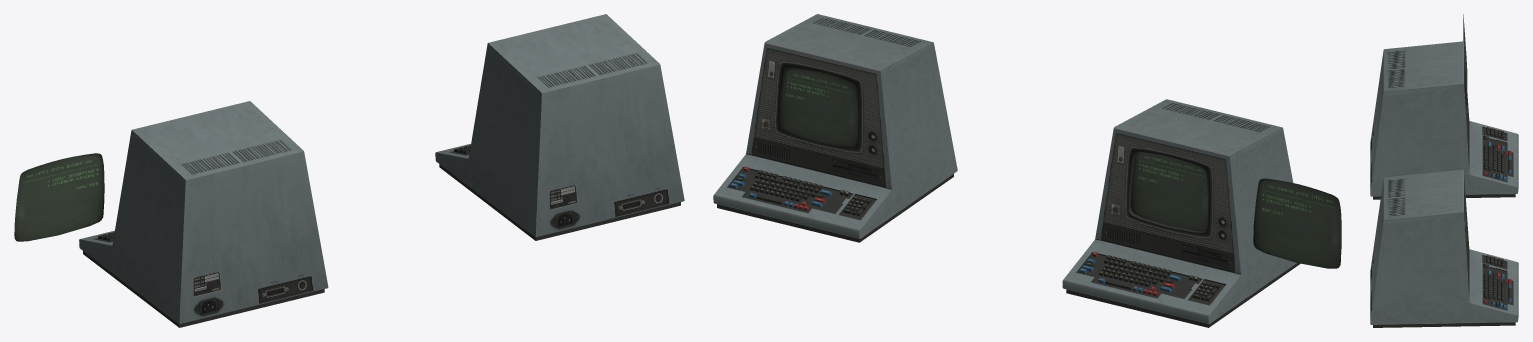
File: Computer.fbx
3 views of the same model, side by side, from view 1: azimuth 30°, elevation 25°; view 2: azimuth 150°, elevation 25°; view 3: azimuth 270°, elevation 25° (orthographic). The views are drawn at different scales.
Visible parts, largest first — view 1: PC1.001, PC2, PlaneForRenderedView; view 2: PC1.001, PC2, PlaneForRenderedView; view 3: PC1.001, PC2, PlaneForRenderedView.
Part boxes in pixels (x1,y1,x2,y2): PC1.001: (435, 14, 684, 240); PC2: (79, 101, 328, 327); PlaneForRenderedView: (14, 153, 104, 241); PC1.001: (713, 14, 957, 242); PC2: (1062, 99, 1300, 327); PlaneForRenderedView: (1253, 178, 1341, 268); PC1.001: (1370, 169, 1518, 327); PC2: (1370, 41, 1518, 199); PlaneForRenderedView: (1463, 14, 1467, 88).
Bounding box in the file's own units: 443 × 105 × 127.
Materials: 3 (3 with a texture image).
